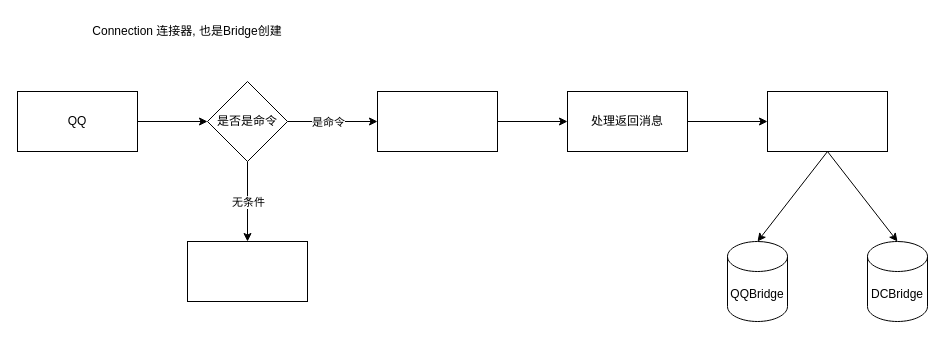
Some shapes in this 945 by 339 pixel diagram are drawn without their labels. Each missing label, with the centre of its shape:
Bridge: point (827, 121)
同步消息: point (247, 271)
处理命令: point (437, 121)
